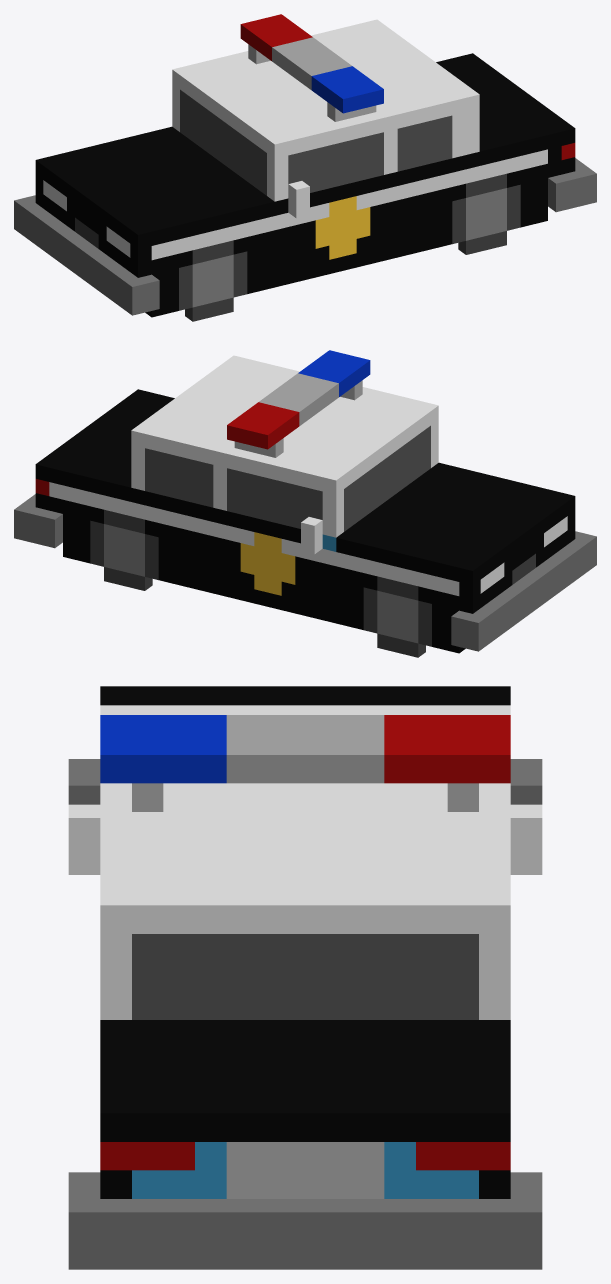
The model's file is policia.obj.
3 views of the same model, one above another, from view 1: azimuth 30°, elevation 25°; view 2: azimuth 150°, elevation 25°; view 3: azimuth 270°, elevation 25° (orthographic). The views are drawn at different scales.
Size of the model in its own units: 3.4 by 1.3 by 1.5.
1 material, 1 textured.
